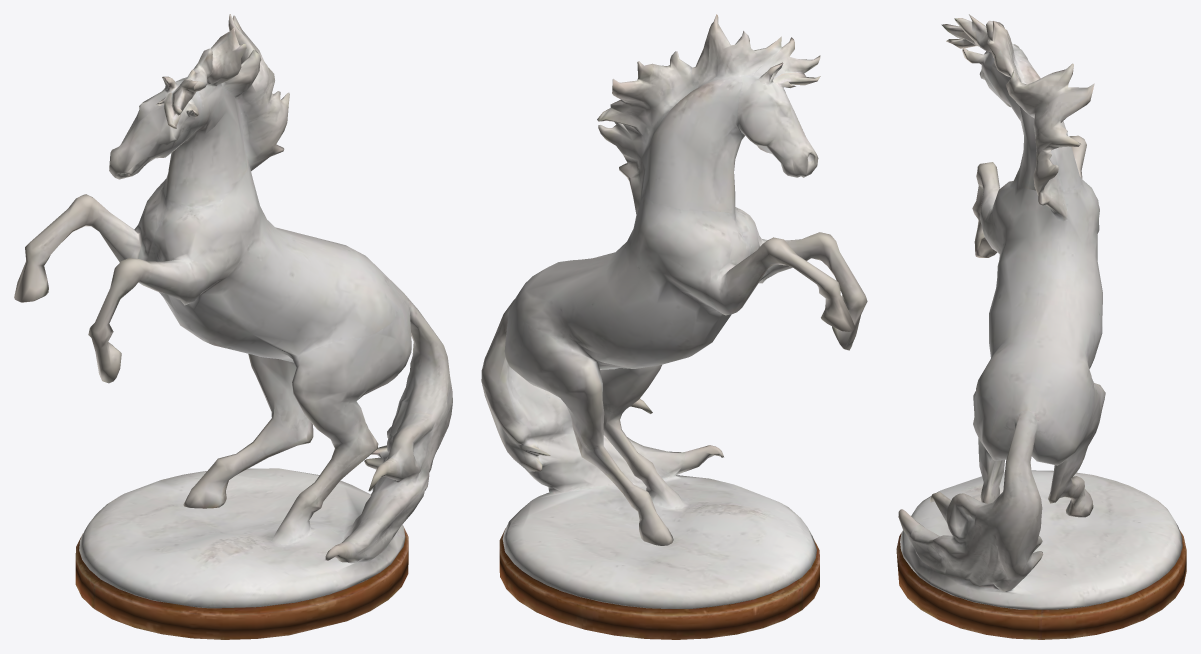
File: horse_statue_01.glb
3 views of the same model, side by side, from view 1: azimuth 30°, elevation 25°; view 2: azimuth 150°, elevation 25°; view 3: azimuth 270°, elevation 25° (orthographic). The views are drawn at different scales.
Visible parts, largest first — view 1: horse_statue_01; view 2: horse_statue_01; view 3: horse_statue_01.
Boxes of the visible parts, x1,y1,x2,y2 form: horse_statue_01: (14, 14, 452, 639); horse_statue_01: (481, 14, 867, 639); horse_statue_01: (896, 14, 1186, 639).
Bounding box in the file's own units: 0.1638 × 0.22 × 0.1078.
1 material, 1 textured.
